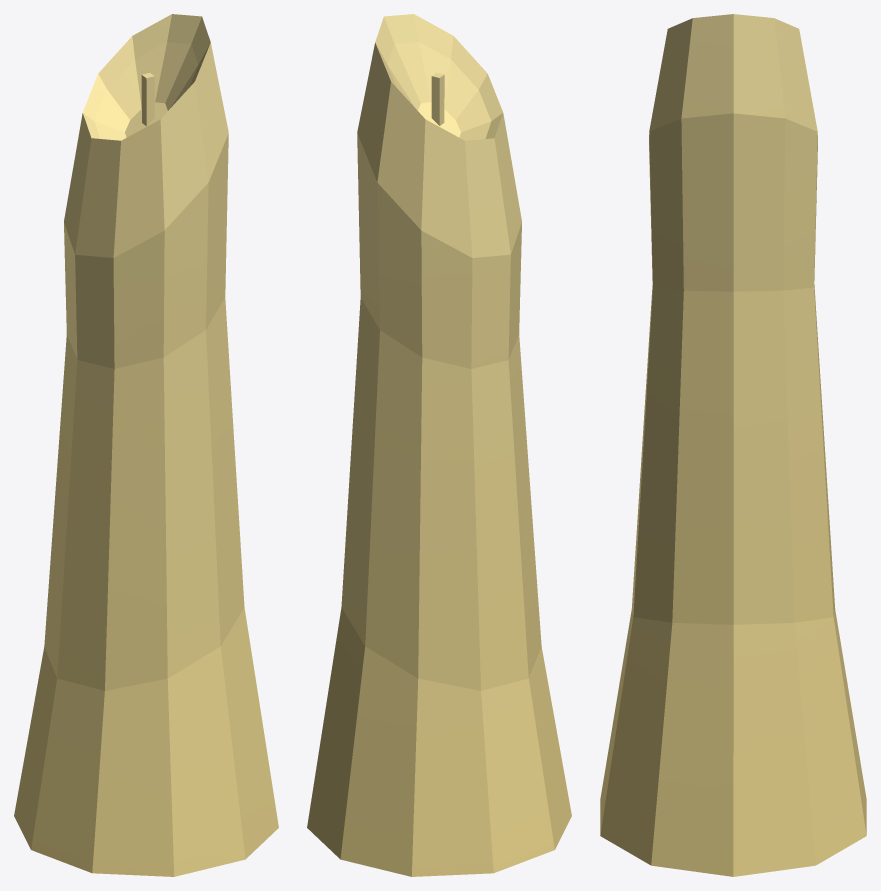
Rendered from Candle_A.fbx.
The picture shows the model from 3 angles, left to right: view 1: azimuth 30°, elevation 25°; view 2: azimuth 150°, elevation 25°; view 3: azimuth 270°, elevation 25°; orthographic projection. The views are drawn at different scales.
Parts seen in each view (by area): view 1: Candle_A; view 2: Candle_A; view 3: Candle_A.
Boxes of the visible parts, x1,y1,x2,y2 form: Candle_A: (14, 14, 278, 876); Candle_A: (307, 14, 571, 876); Candle_A: (600, 14, 866, 876).
Size of the model in its own units: 5.83 by 19.12 by 5.55.
